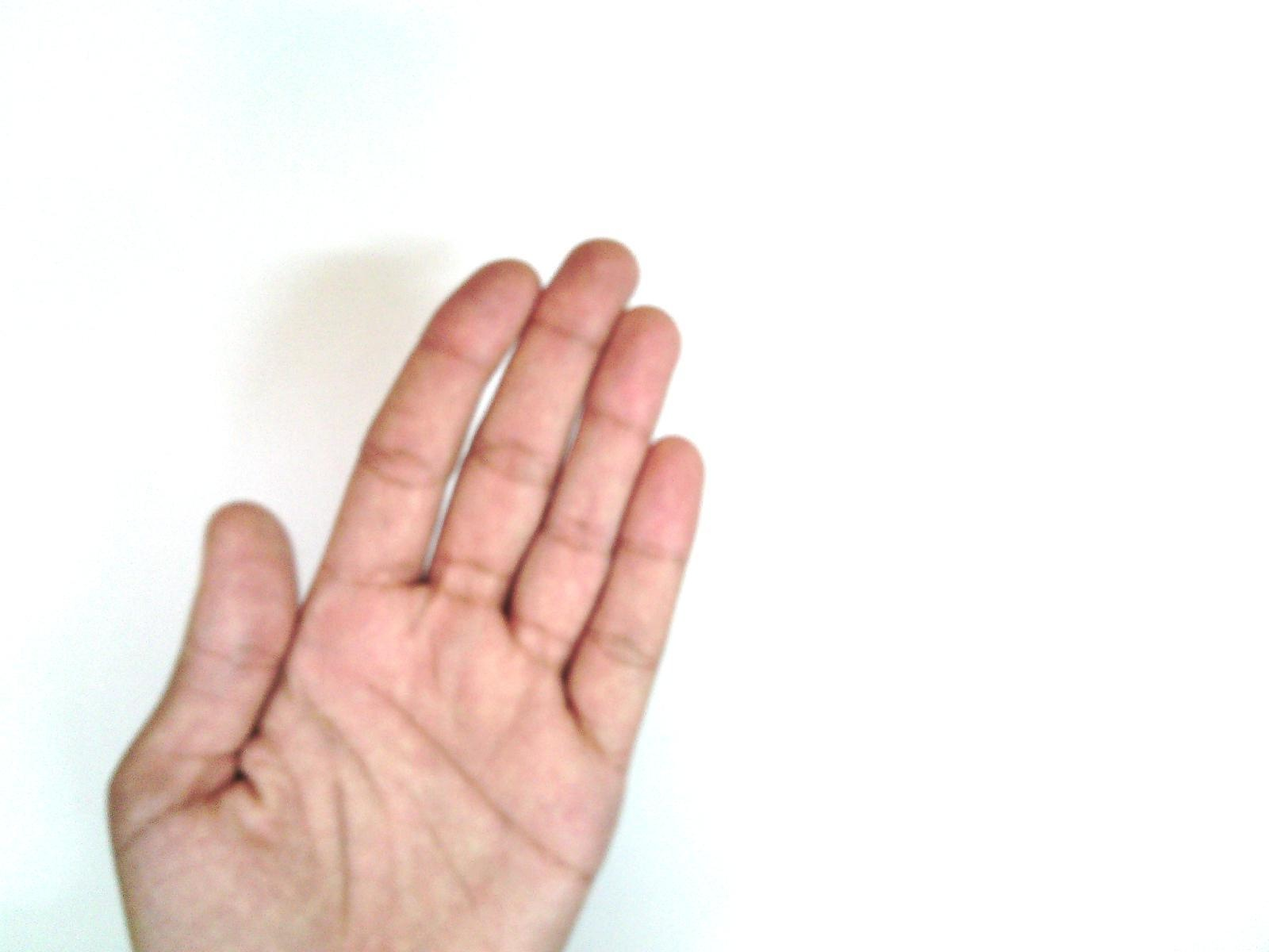open_palm: (104, 237, 708, 951)
